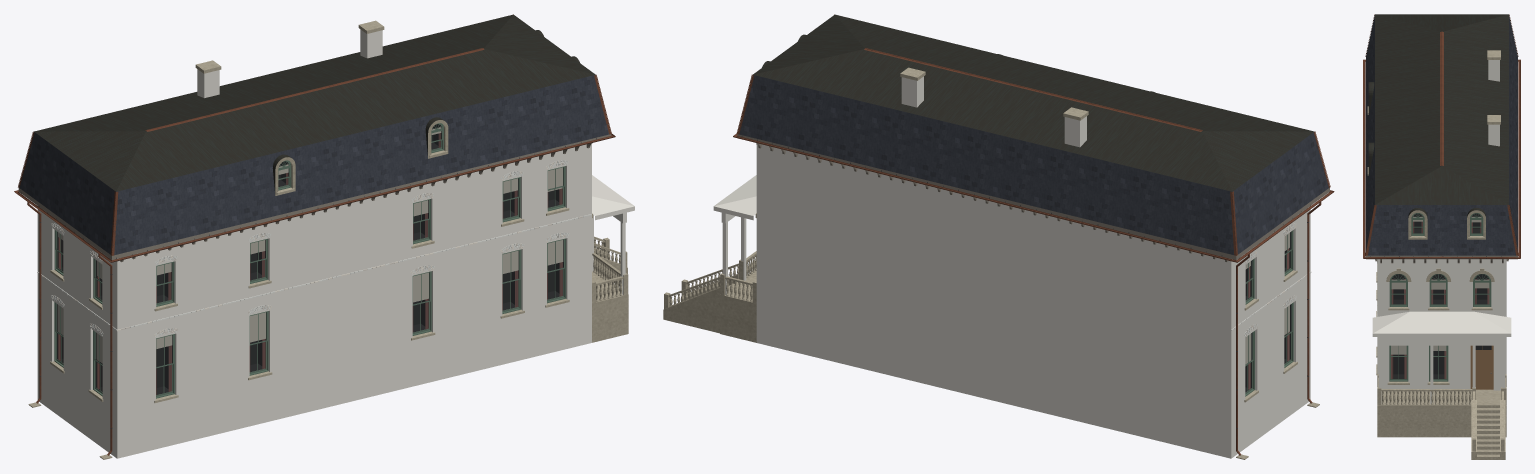
Rendered from house_1736_prairie__as_mapped_1904.glb.
3 renders of one model, left to right at view 1: azimuth 30°, elevation 25°; view 2: azimuth 150°, elevation 25°; view 3: azimuth 270°, elevation 25°, orthographic. The views are drawn at different scales.
Parts seen in each view (by area): view 1: house_1736_prairie__as_mapped_1904; view 2: house_1736_prairie__as_mapped_1904; view 3: house_1736_prairie__as_mapped_1904.
Boxes of the visible parts, bbox=[...] form: house_1736_prairie__as_mapped_1904: bbox=[14, 14, 634, 459]; house_1736_prairie__as_mapped_1904: bbox=[663, 14, 1334, 459]; house_1736_prairie__as_mapped_1904: bbox=[1363, 14, 1520, 459].
Bounding box in the file's own units: 28.64 × 14.12 × 8.24.
Materials: 20 (6 with a texture image).
